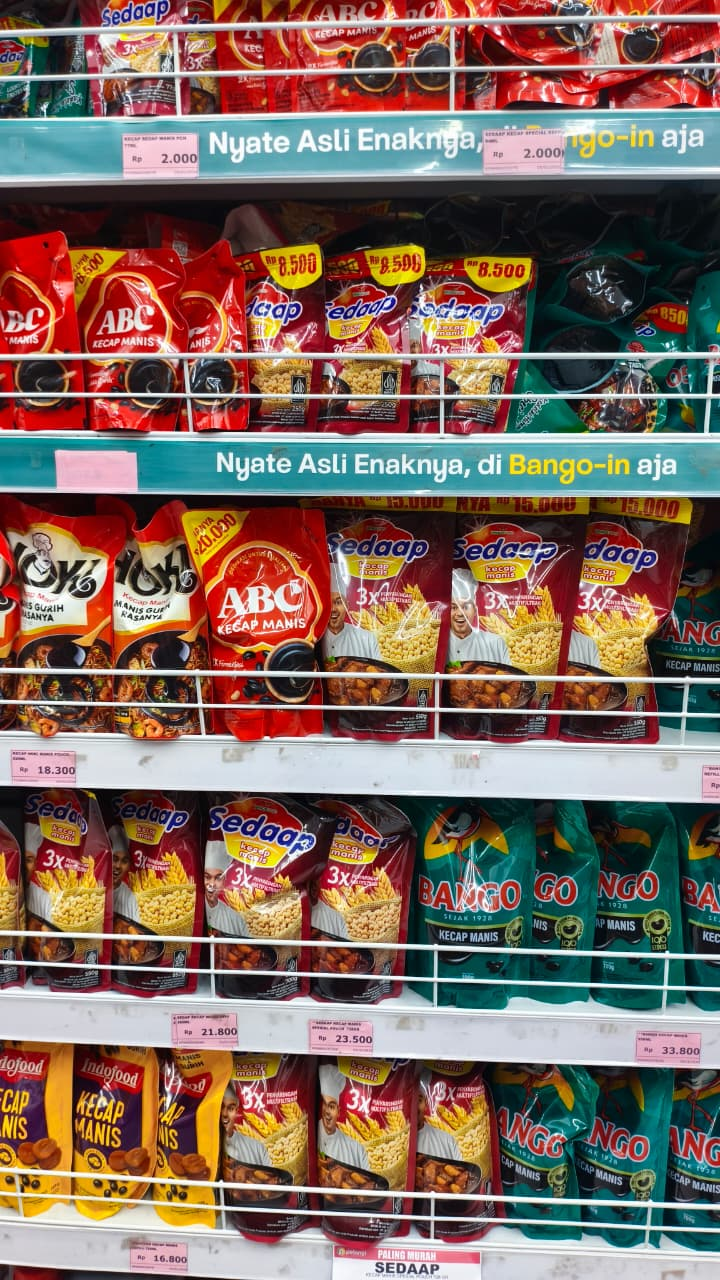ABC Kecap Manis: (192, 525, 323, 679)
Bango: (403, 794, 531, 985)
Sedaap: (193, 771, 324, 897)
